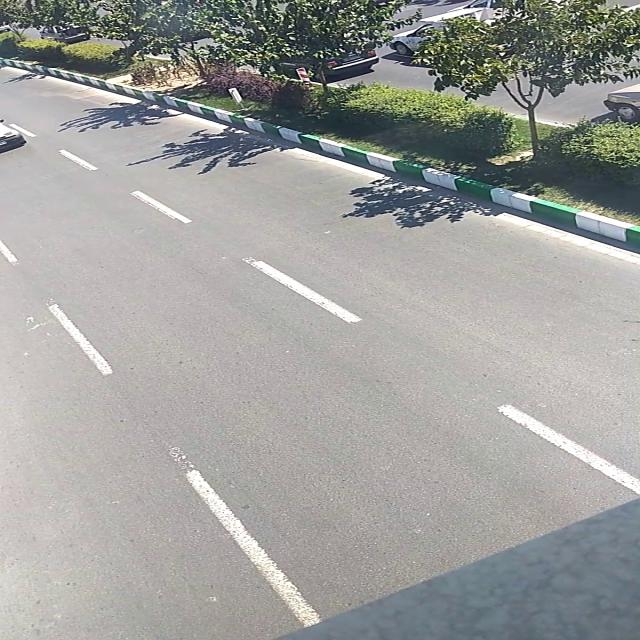car: (317, 49, 378, 75), (602, 84, 640, 120)
